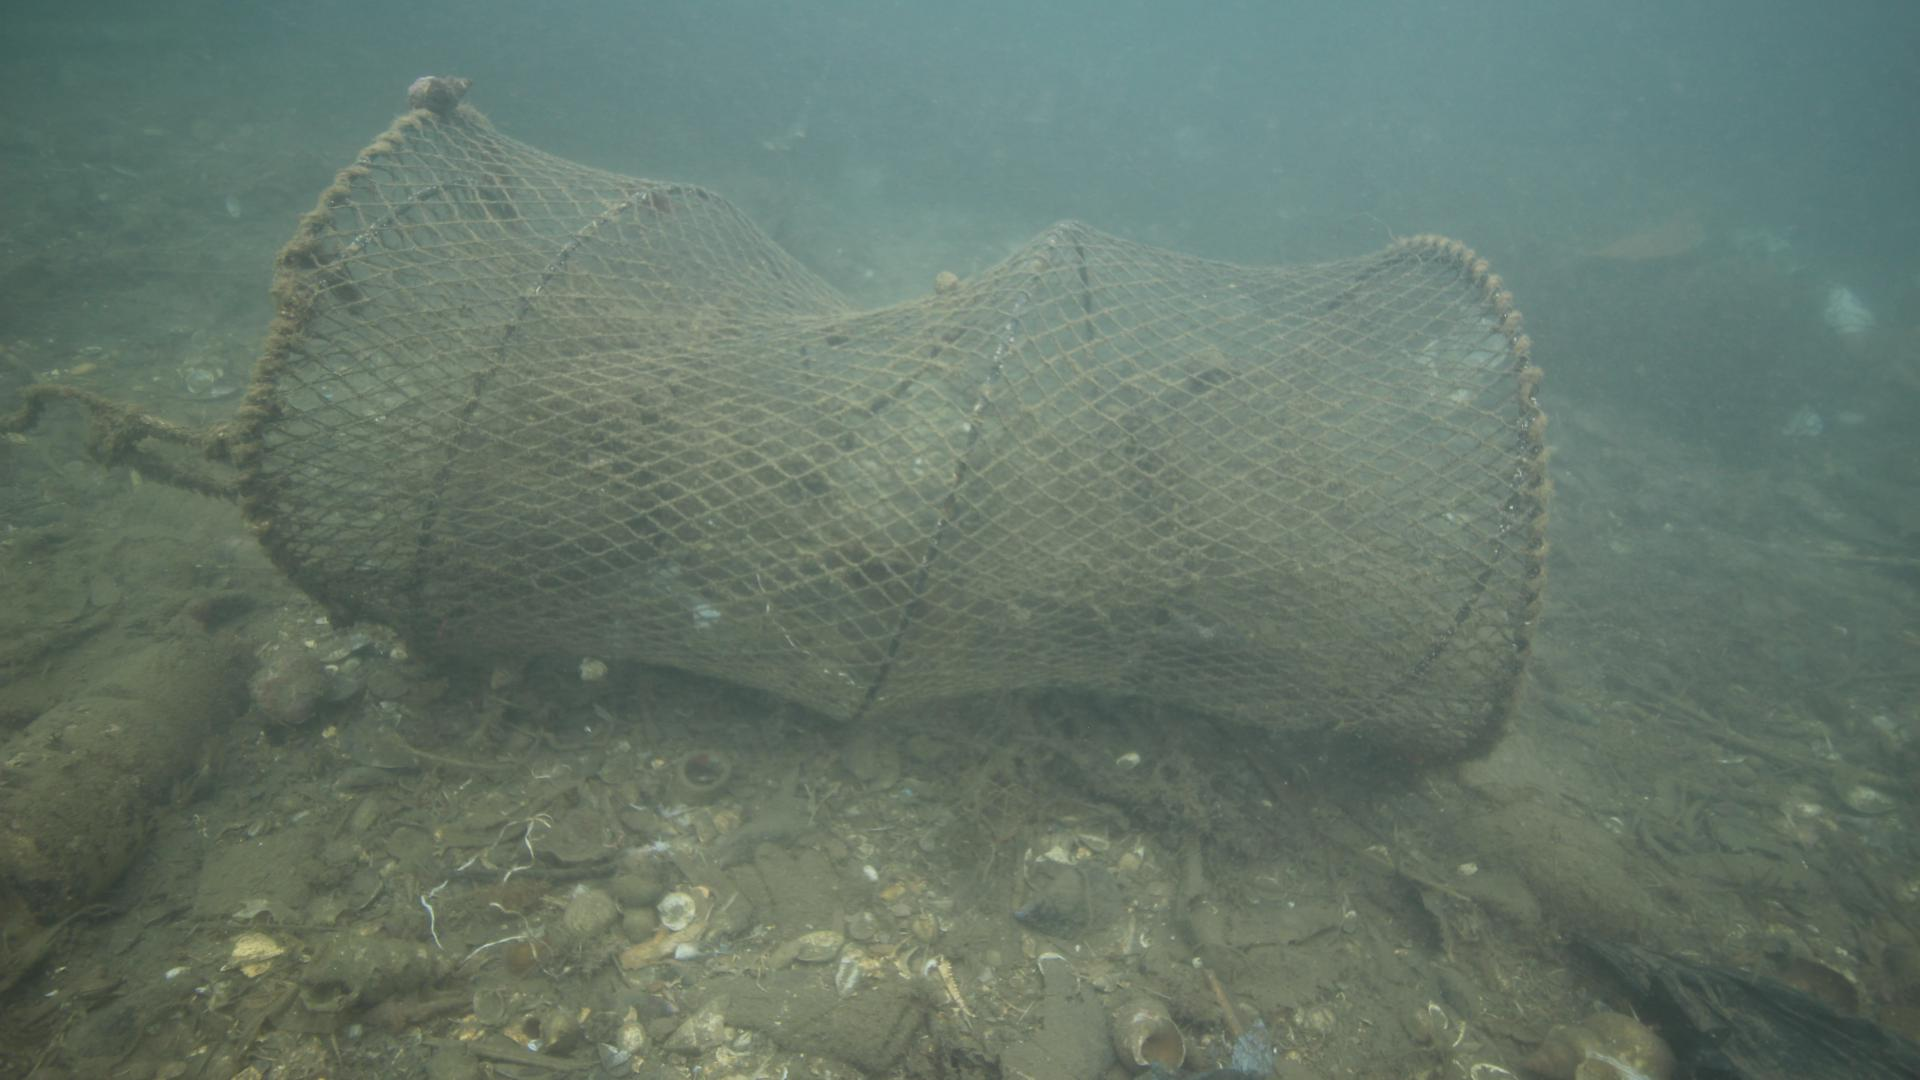spring fish trap: (233, 100, 1549, 770)
